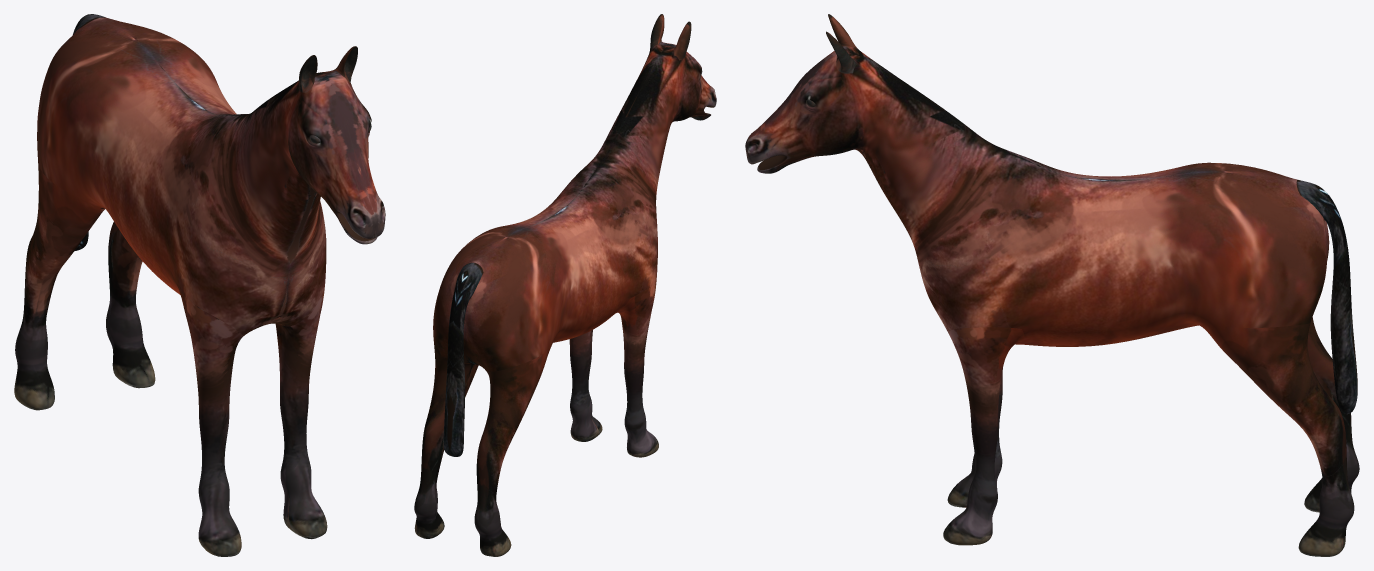
File: horsefbx10.fbx
3 views of the same model, side by side, from view 1: azimuth 30°, elevation 25°; view 2: azimuth 150°, elevation 25°; view 3: azimuth 270°, elevation 25° (orthographic). The views are drawn at different scales.
Visible parts, largest first — view 1: 10026_Horse_v01-it2; view 2: 10026_Horse_v01-it2; view 3: 10026_Horse_v01-it2.
Boxes of the visible parts, bbox=[...] form: 10026_Horse_v01-it2: bbox=[14, 14, 385, 556]; 10026_Horse_v01-it2: bbox=[414, 14, 716, 556]; 10026_Horse_v01-it2: bbox=[745, 14, 1359, 556].
Size of the model in its own units: 27.86 by 98.64 by 111.
Materials: 1 (1 with a texture image).
